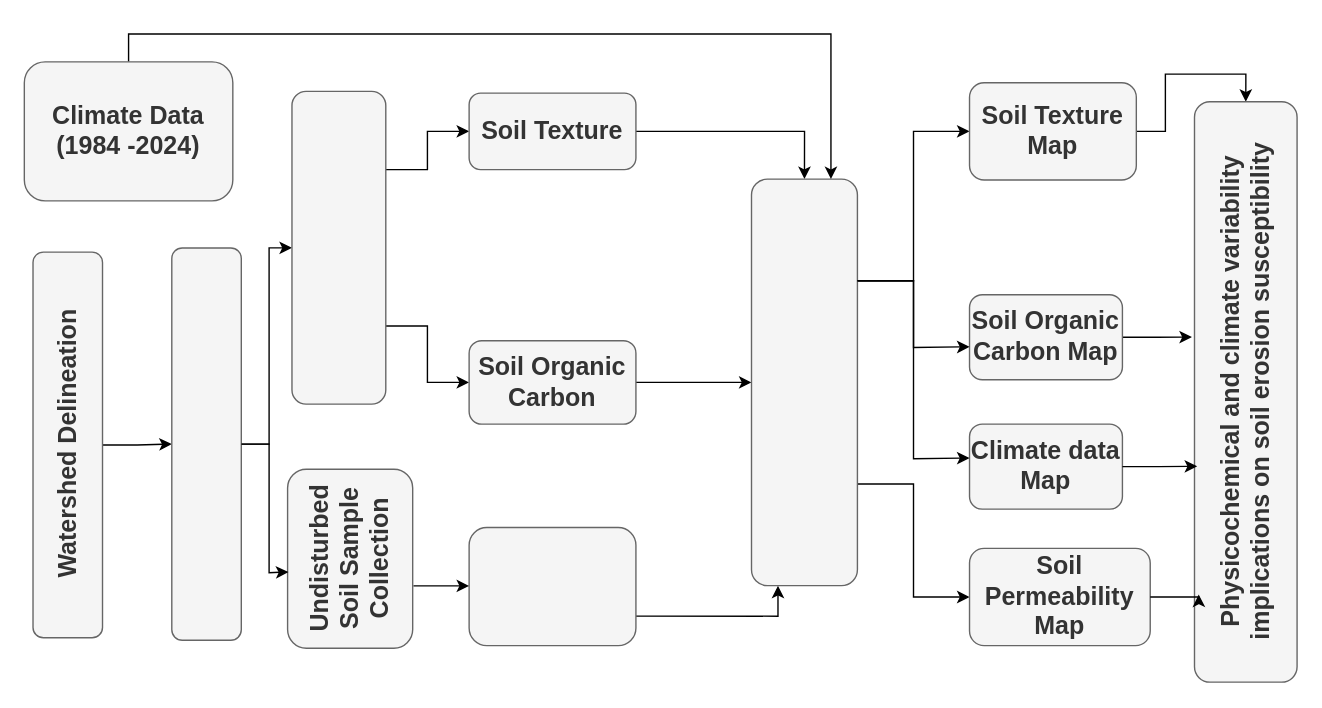
This 1322x708 diagram has some shape labels left out. Here are the shapes that lost their labels. From the top down, the centre of each, then its label:
At point (338, 247): "Disturbed Soil Sample Collection".
At point (803, 382): "Geospatial and Statistical Data Analysis".
At point (205, 443): "Grid Sampling Technique".
At point (552, 586): "Soil Permeability".
